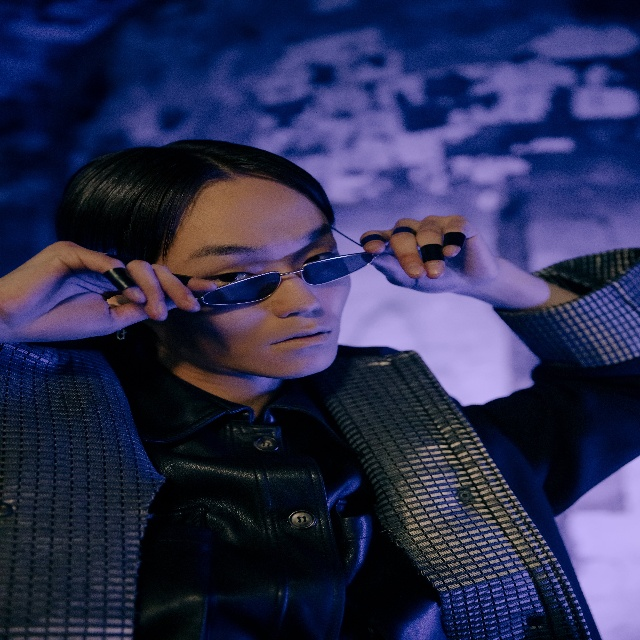Gafas: (200, 258, 383, 305)
Sin_guantes: (0, 265, 198, 362), (356, 212, 497, 295)
